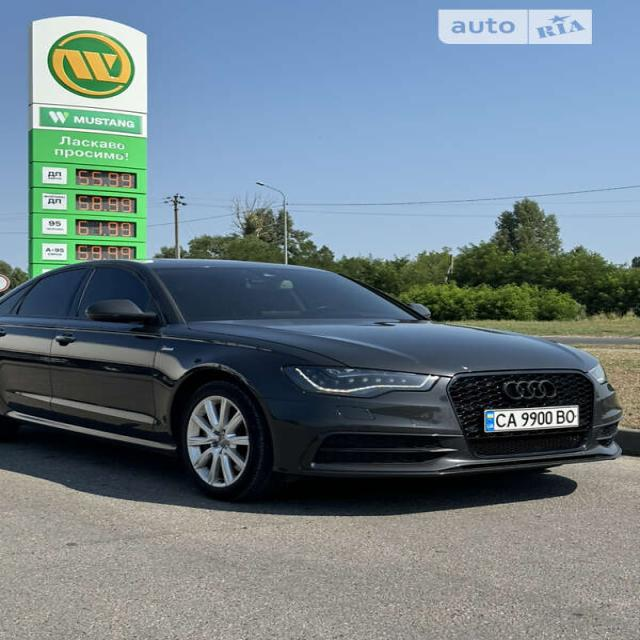plate: (479, 403, 594, 438)
